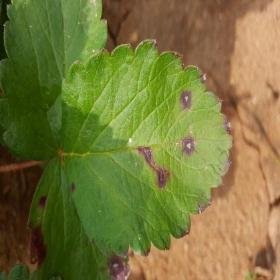Leaf Spot: (60, 40, 235, 258), (26, 153, 132, 279)
